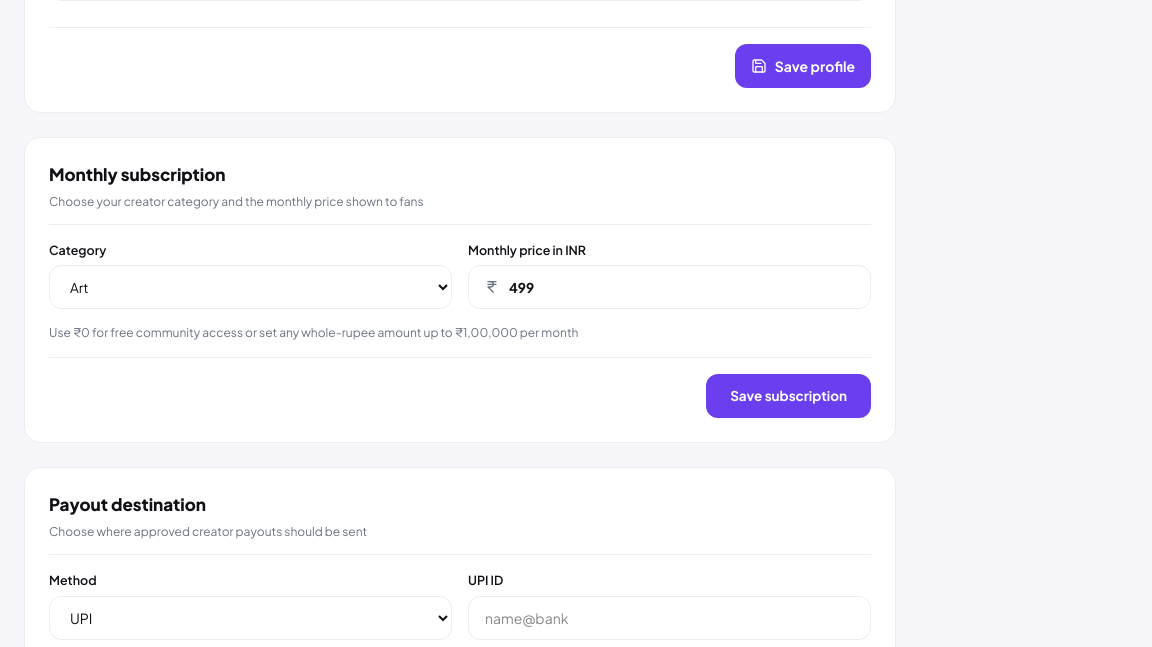
Test: creator subscription pricing UI › loads and persists the creator's chosen monthly charge
This screenshot has width=1152, height=647.
(page scrolled)
Step 1. Replace the text in the number field labelled "Monthly price in INR" with "749" → (670, 287), box x1=468 y1=265 x2=871 y2=309
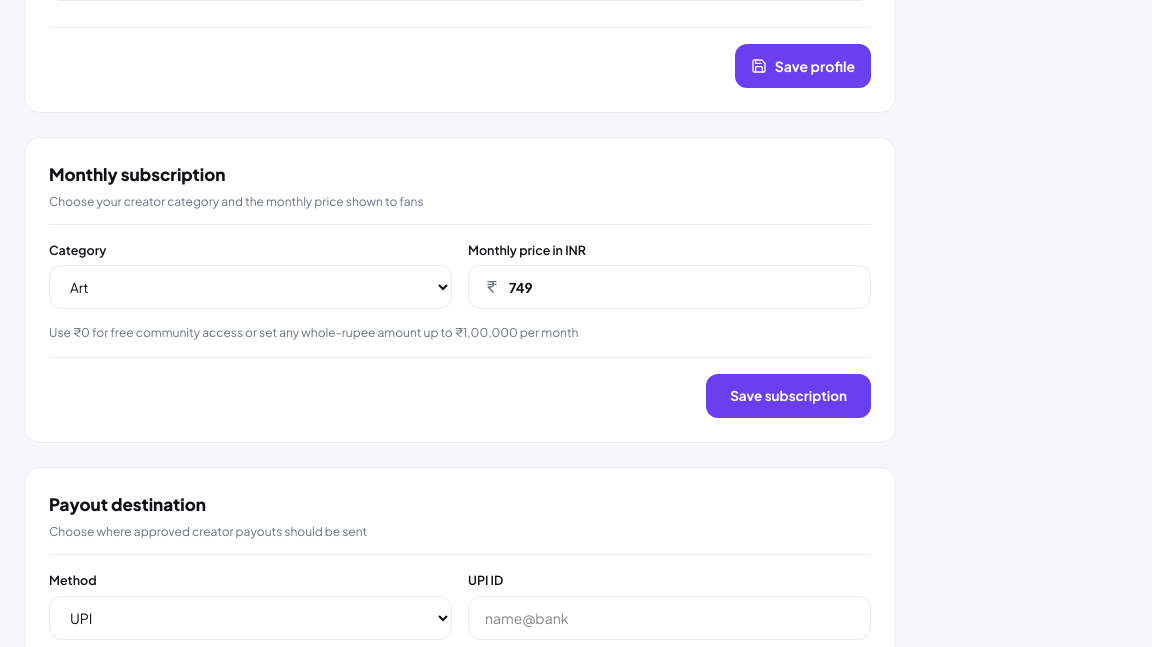
Step 2. Click the button "Save subscription" → (789, 396), box x1=706 y1=374 x2=871 y2=418
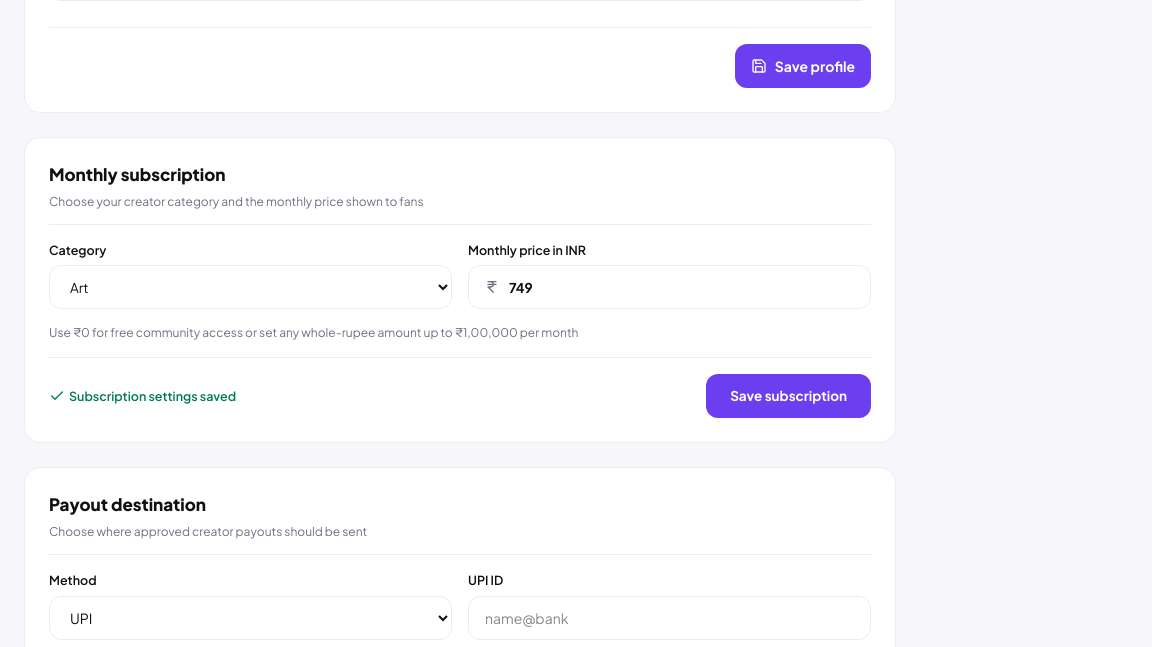
Expected: the message reads "Subscription settings saved", x1=69 y1=388 x2=236 y2=404
